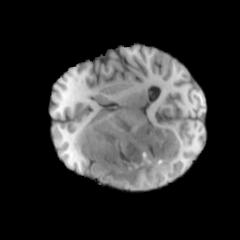glioma: (74, 114, 185, 188)
